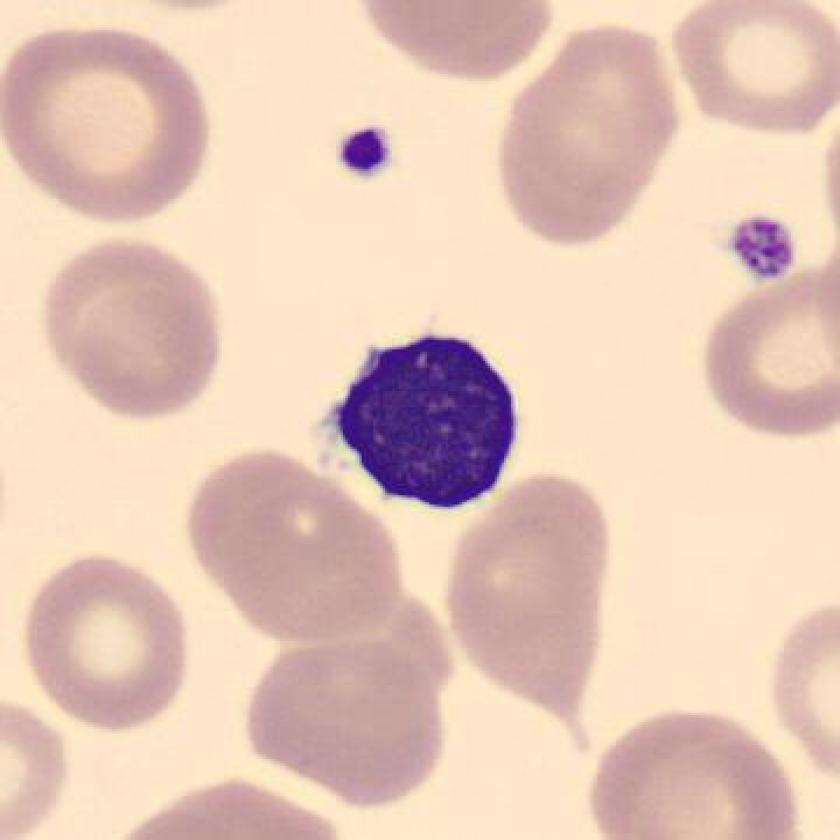lymphocyte: (319, 314, 529, 534)
platelets: (728, 211, 801, 281), (334, 120, 398, 179)
